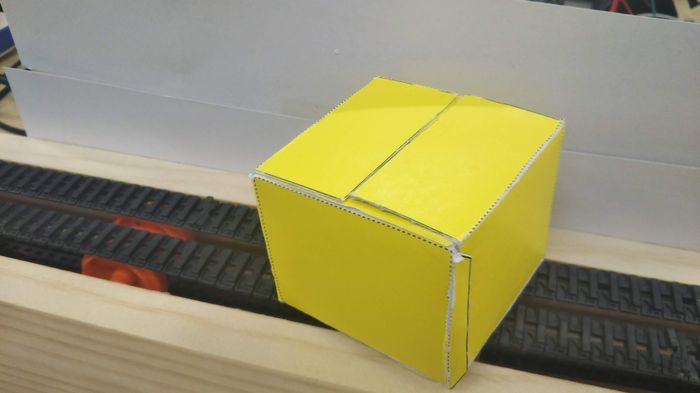box4: (246, 74, 565, 388)
